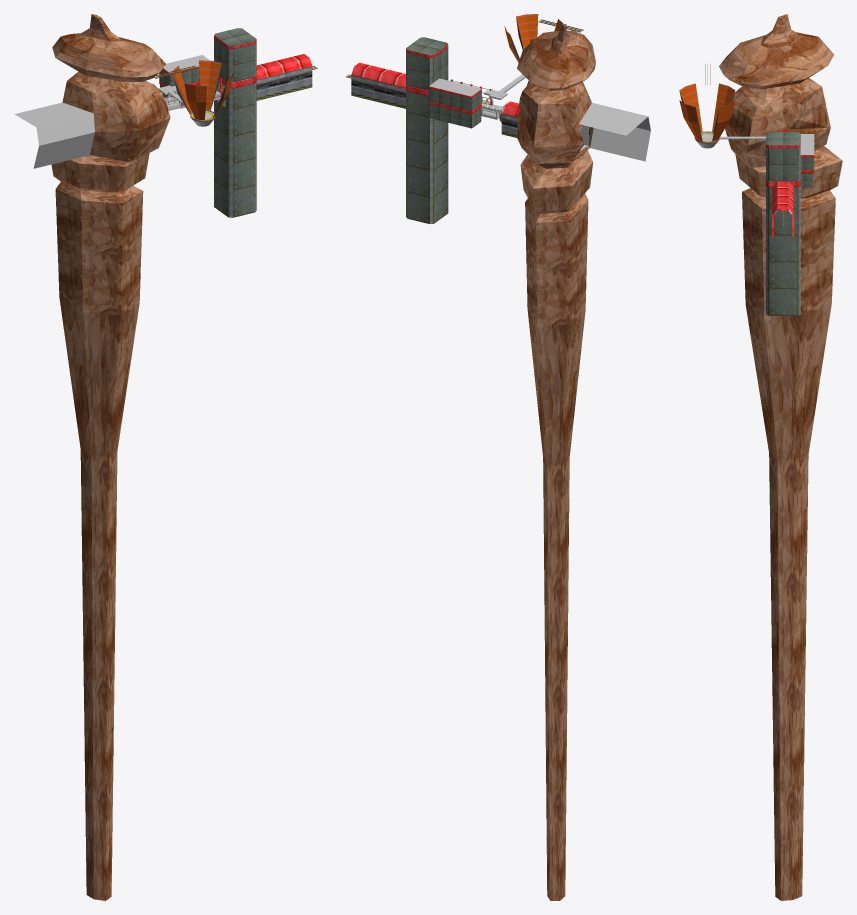
The model's file is 2P_Rail_canyon7.obj.
3 renders of one model, left to right at view 1: azimuth 30°, elevation 25°; view 2: azimuth 150°, elevation 25°; view 3: azimuth 270°, elevation 25°, orthographic.
Visible parts, largest first — view 1: Object_2; view 2: Object_2; view 3: Object_2.
Boxes of the visible parts, box(x1,y1,x2,y2) form: Object_2: box(14, 14, 317, 900); Object_2: box(346, 14, 650, 900); Object_2: box(679, 14, 842, 900).
Bounding box in the file's own units: 3721 × 10737 × 1809.
